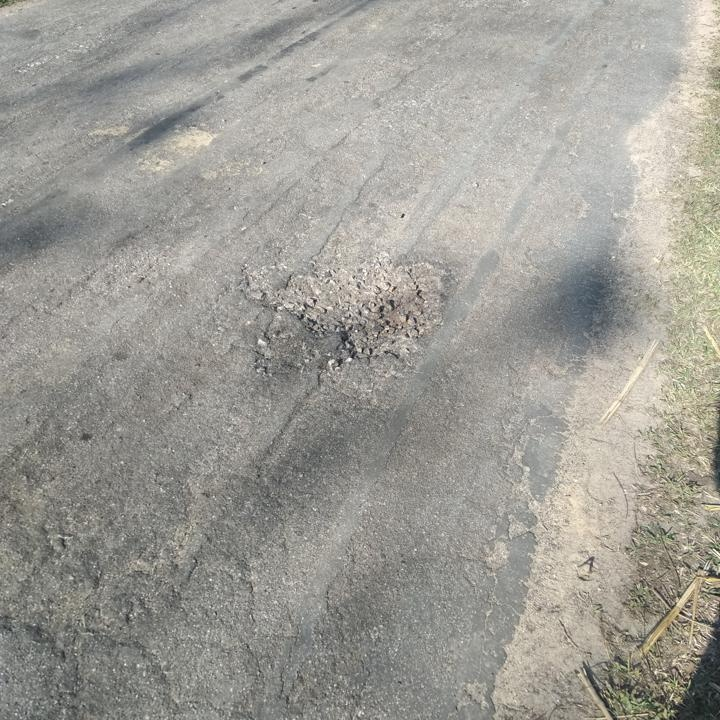pothole: (242, 249, 458, 364)
